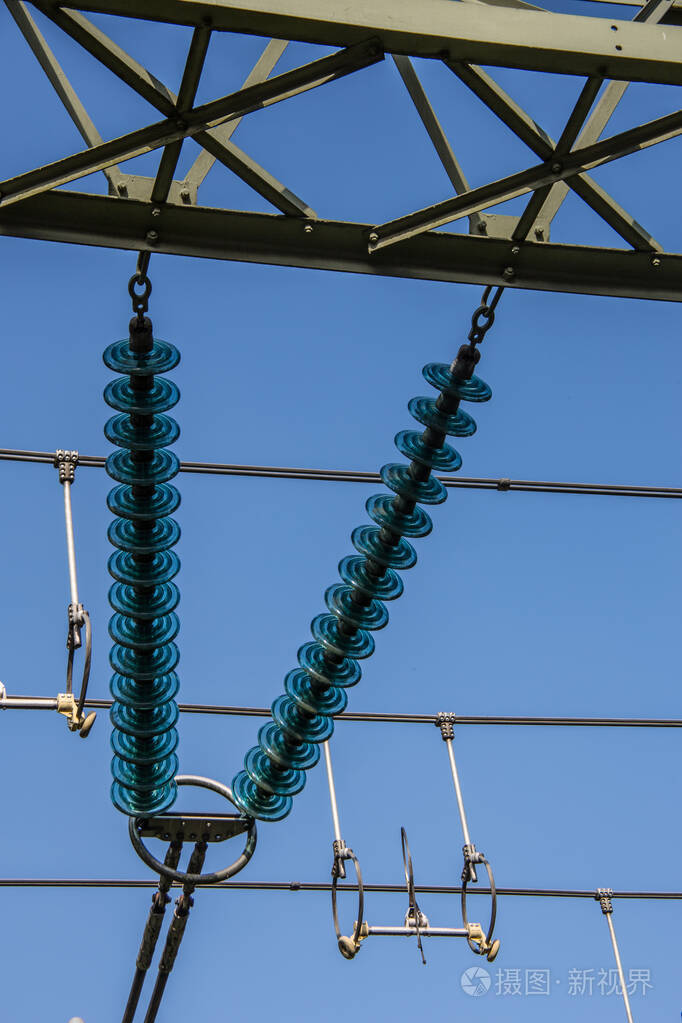insulator: (235, 363, 501, 817), (101, 341, 183, 813)
